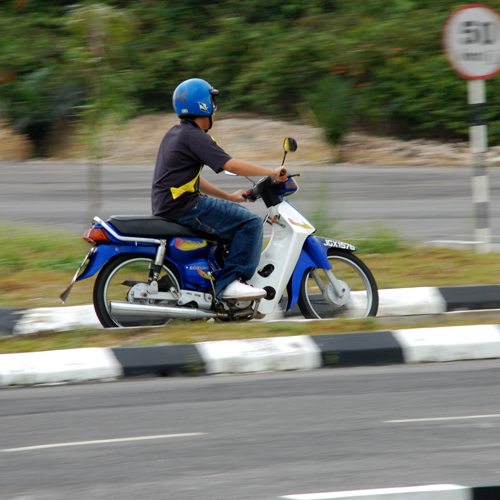helmet: (163, 68, 223, 122)
